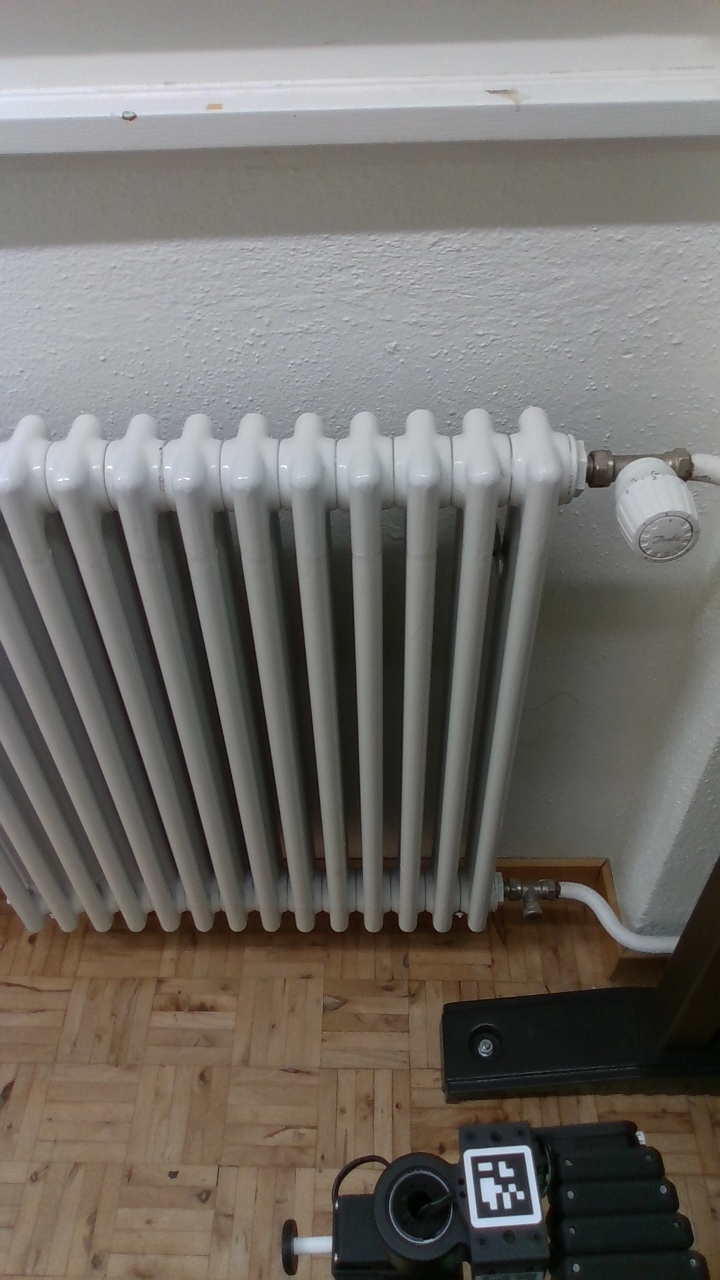Knob_Radiator: (584, 434, 715, 575)
Radiator: (1, 398, 603, 949)
